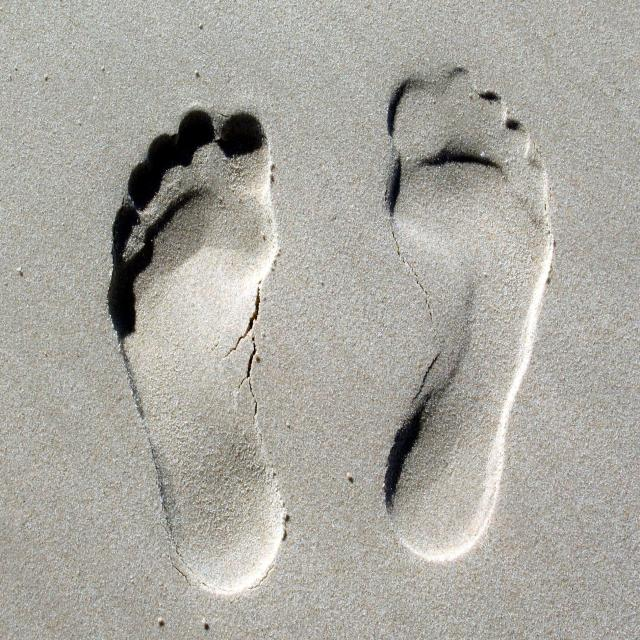human_foot_print: (71, 31, 594, 618)
